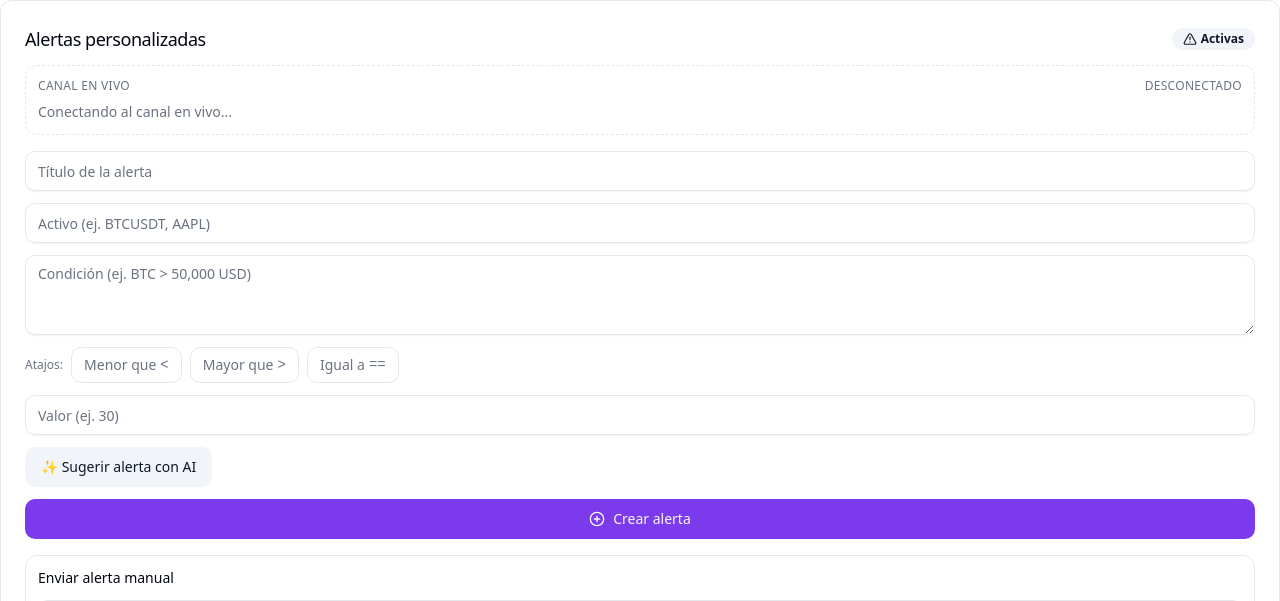
AlertsPanel › shows a validation error when title is missing
Type "ETHUSDT" into the field with placeholder "Activo (ej. BTCUSDT, AAPL)" at {"x": 640, "y": 223}, box x1=25 y1=203 x2=1255 y2=243
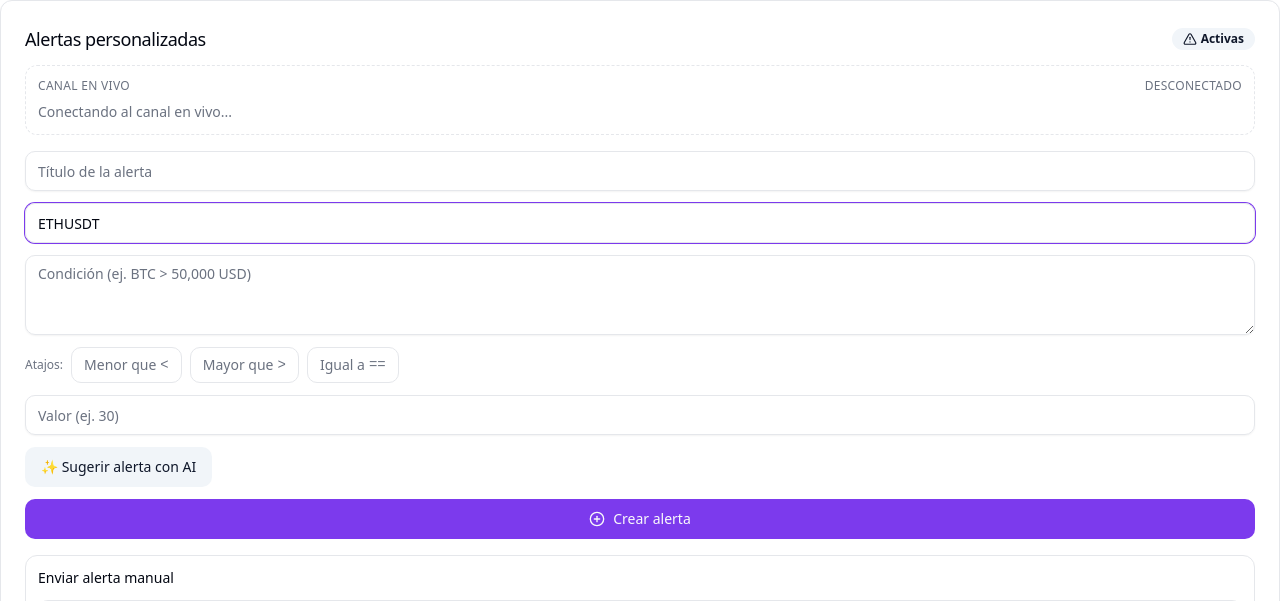
Type "ETH supera los 3000" into the text box with placeholder "Condición (ej. BTC > 50,000 USD)" at {"x": 640, "y": 295}, box x1=25 y1=255 x2=1255 y2=335
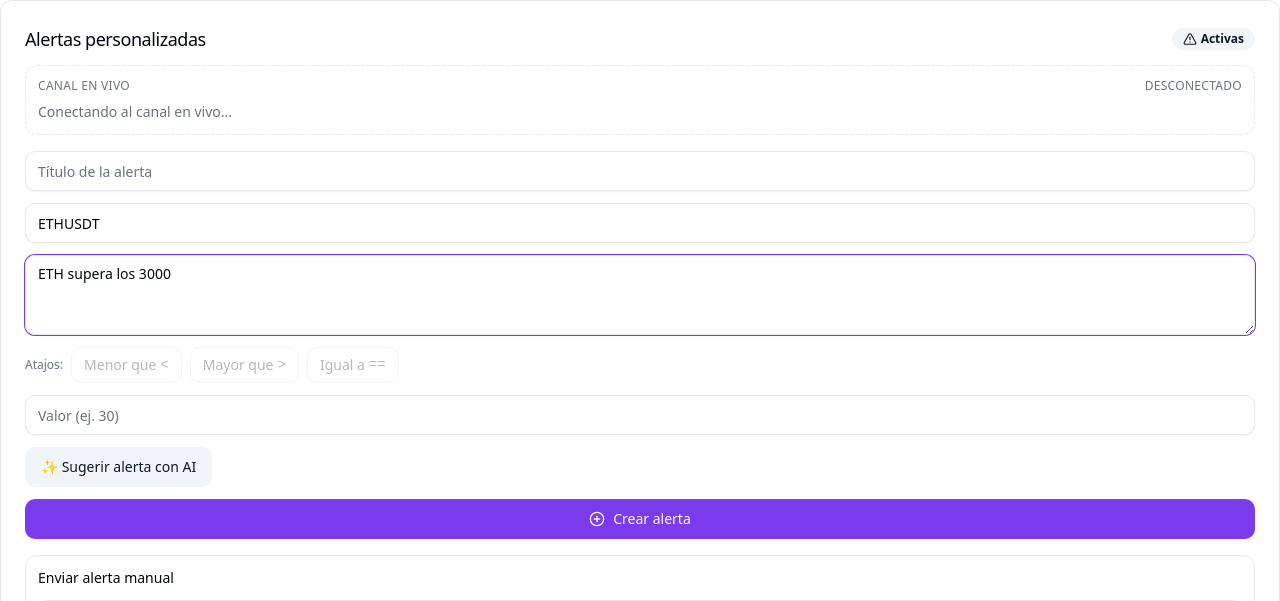
Type "3000" into the number field with placeholder "Valor (ej. 30)" at {"x": 640, "y": 415}, box x1=25 y1=395 x2=1255 y2=435
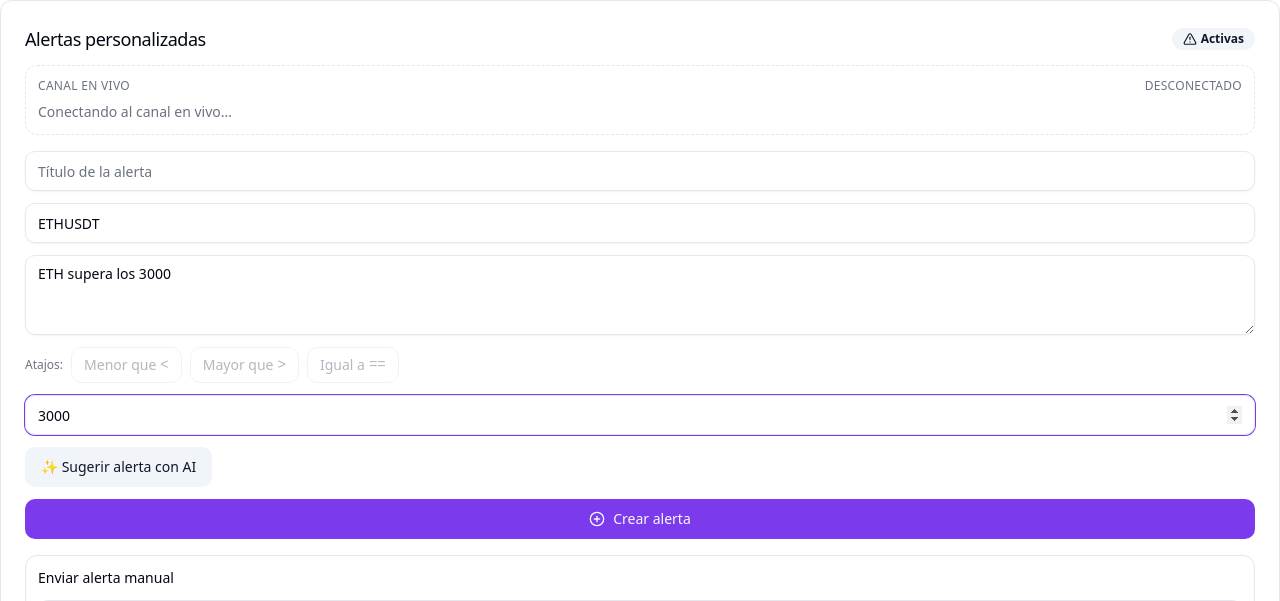
Click the button "Crear alerta" at {"x": 640, "y": 519}, box x1=25 y1=499 x2=1255 y2=539
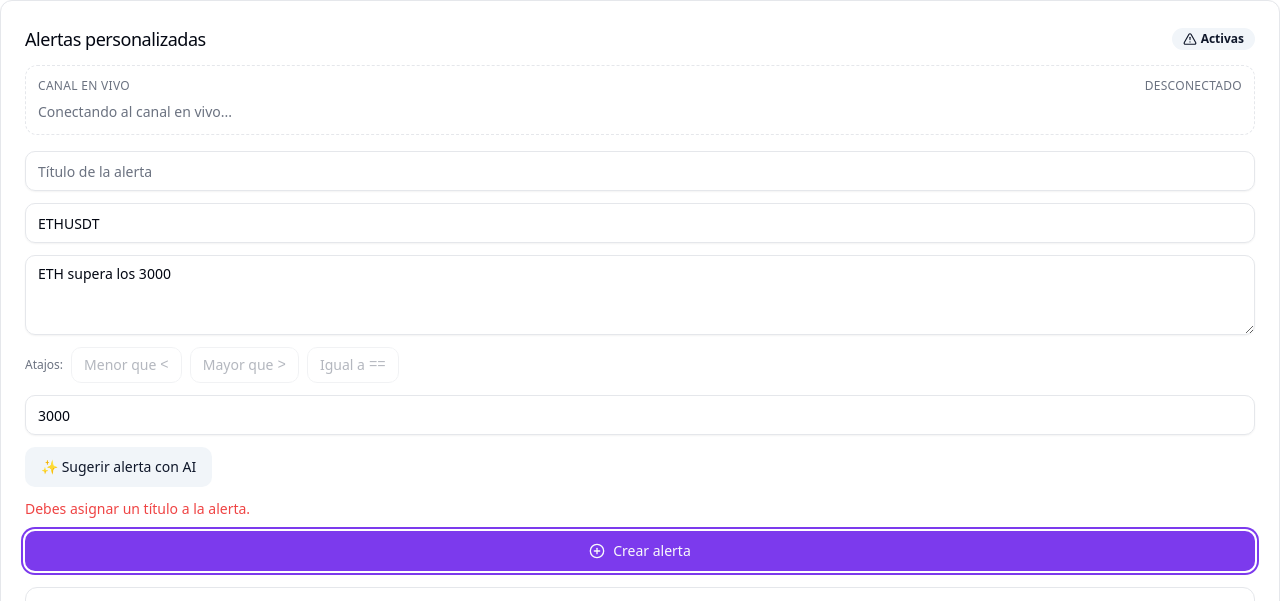
Expected: the text "Debes asignar un título a la alerta." is shown, x1=25 y1=499 x2=250 y2=518
